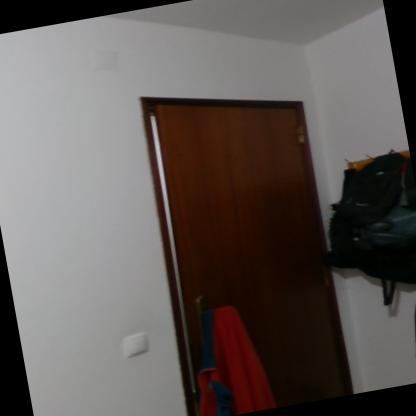closed: (123, 59, 373, 415)
